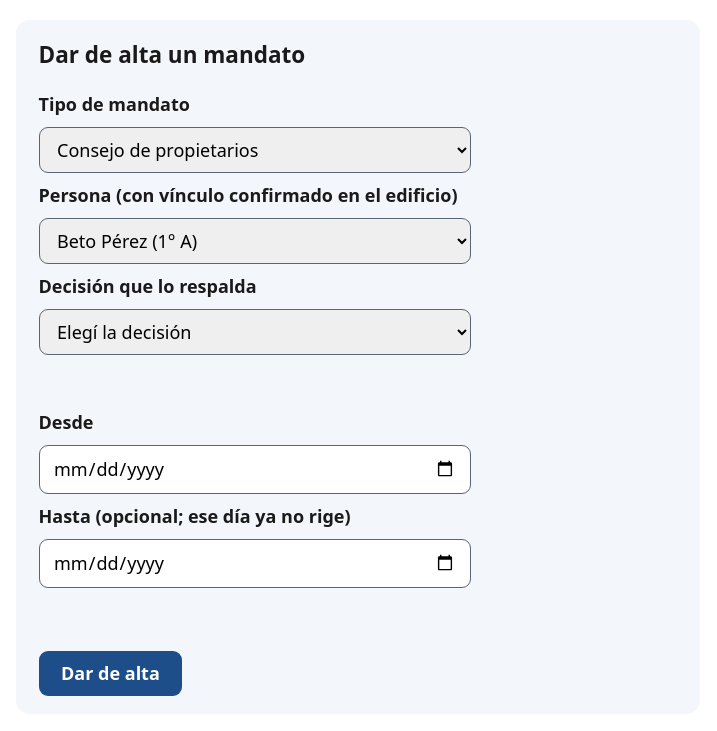
Test case: página /mandatos › da de alta al Consejo con la persona de los candidatos
(page scrolled)
Select "Asamblea del 10 de enero de 2026: Designa al Consejo" in the dropdown labelled "Decisión que lo respalda": [254, 332] box [38, 309, 470, 355]
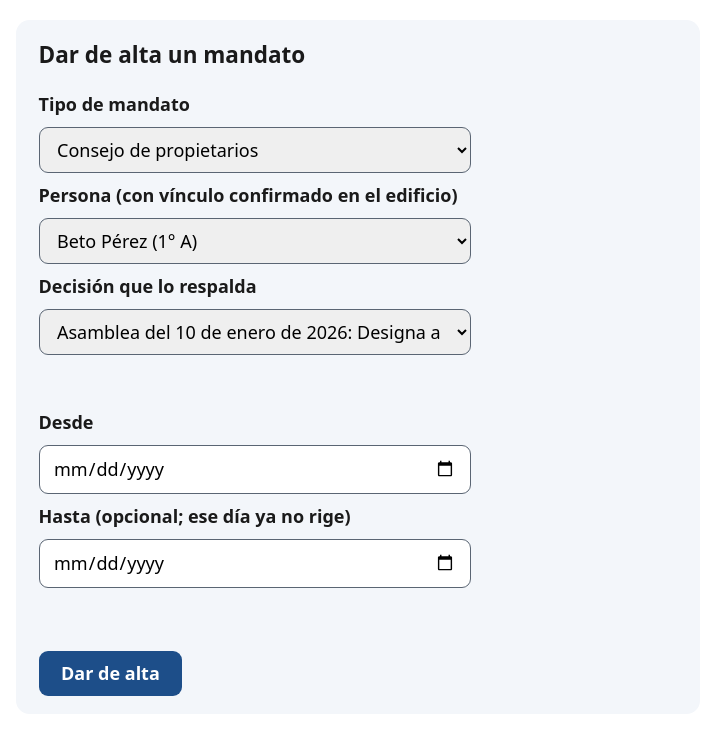
In the date field labelled "Desde": [254, 469] box [38, 445, 470, 494], type "2026-11-01"
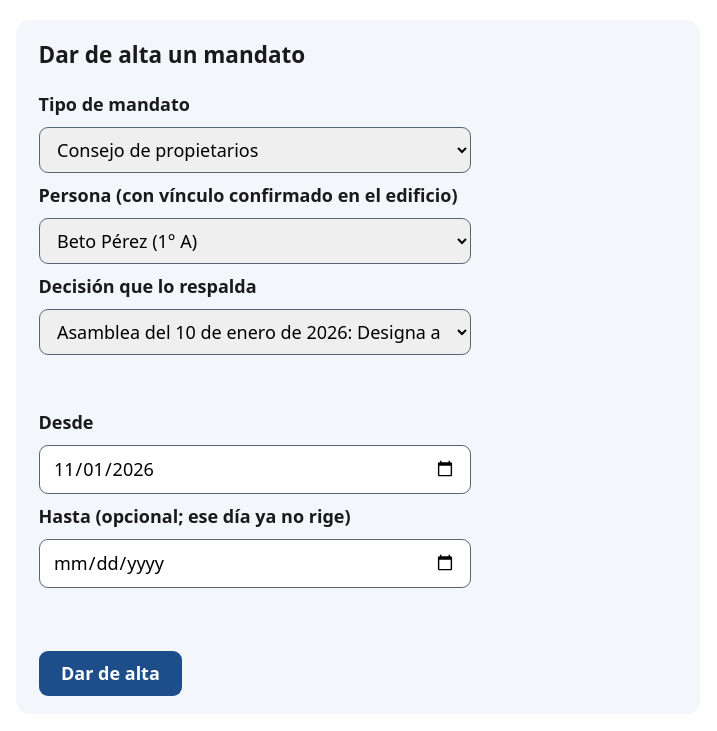
Click the button "Dar de alta": [110, 673] box [38, 651, 182, 696]
(page scrolled)
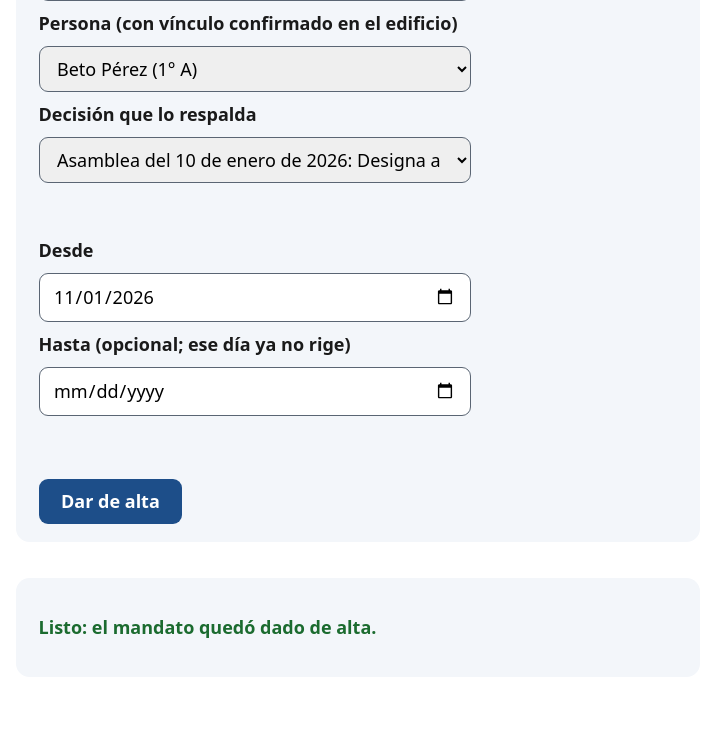
Result: the text "Listo: el mandato quedó dado de alta." is shown at [38, 615, 376, 639]
